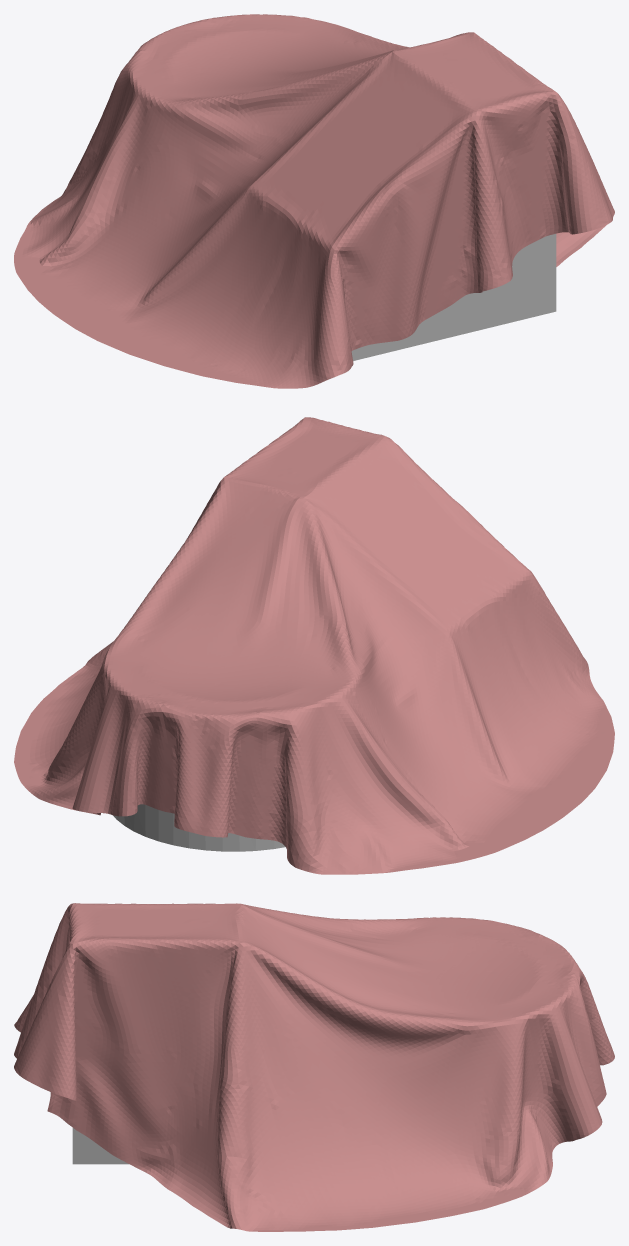
Rendered from level_3.glb.
The picture shows the model from 3 angles, top to bottom: view 1: azimuth 30°, elevation 25°; view 2: azimuth 150°, elevation 25°; view 3: azimuth 270°, elevation 25°; orthographic projection.
Visible parts, largest first — view 1: world, object.obj; view 2: world, object.obj; view 3: world, object.obj.
Boxes of the visible parts, x1,y1,x2,y2 form: world: (14,14,614,388); object.obj: (351,234,556,360); world: (14,417,614,874); object.obj: (113,804,285,851); world: (14,903,614,1231); object.obj: (72,1128,128,1164).
Size of the model in its own units: 0.4619 by 0.1894 by 0.4608.
